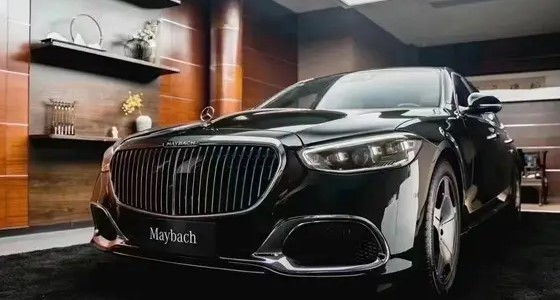car: (89, 65, 526, 295)
